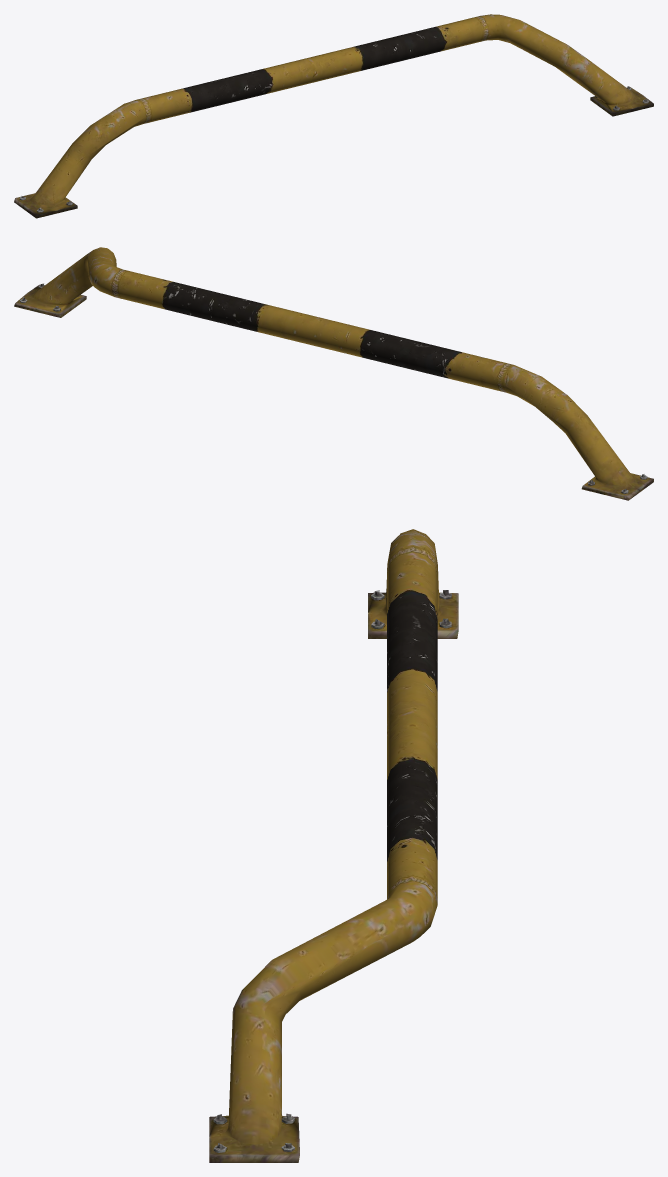
File: truck_barrier_guide.glb
The picture shows the model from 3 angles, top to bottom: view 1: azimuth 30°, elevation 25°; view 2: azimuth 150°, elevation 25°; view 3: azimuth 270°, elevation 25°; orthographic projection. The views are drawn at different scales.
Visible parts, largest first — view 1: truck_barrier_guide; view 2: truck_barrier_guide; view 3: truck_barrier_guide.
Part boxes in pixels (x1,y1,x2,y2): truck_barrier_guide: [14, 14, 653, 218]; truck_barrier_guide: [14, 247, 653, 500]; truck_barrier_guide: [209, 529, 458, 1162].
Size of the model in its own units: 4.22 by 0.5726 by 0.7889.
Materials: 1 (1 with a texture image).
